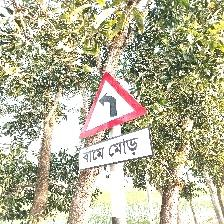Left-Turn: (78, 70, 154, 173)
